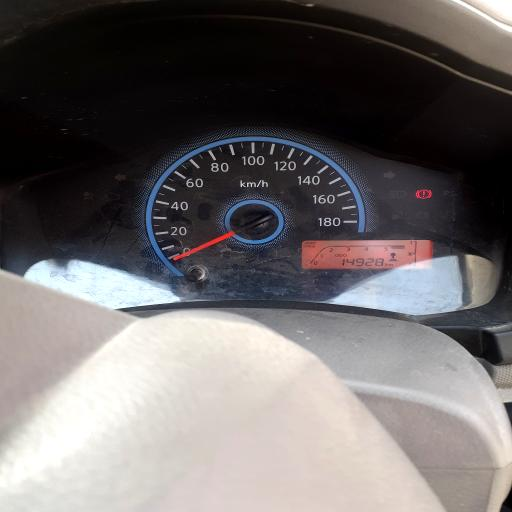brake_system_fault: (415, 189, 432, 199)
